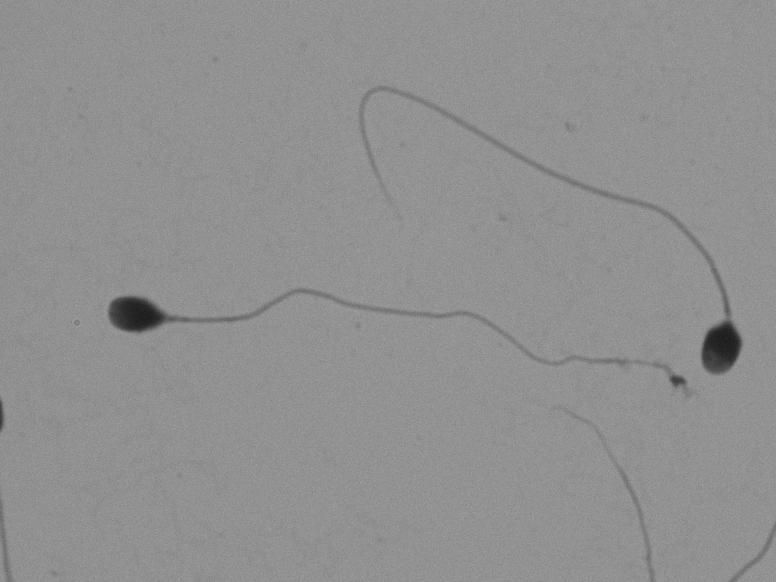Normal: (342, 73, 766, 386), (62, 255, 683, 424)
